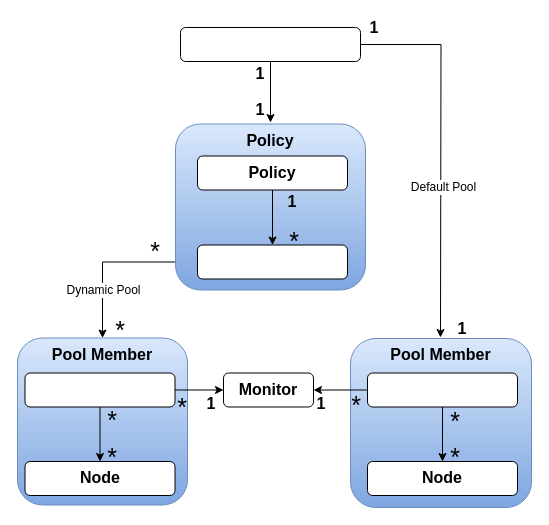
Image size: 549x525. Some labels were removed from this diagram. Here are the shapes that lost their labels. From the top down, the box of each, then its label:
(180, 26, 360, 62): Virtual Server
(196, 244, 348, 279): Rule
(24, 372, 175, 407): Pool
(366, 372, 518, 407): Pool Defaut
